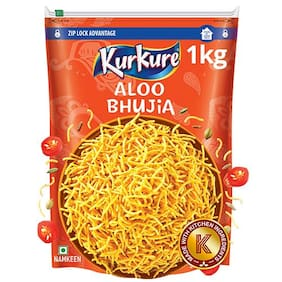kurkure: (87, 40, 191, 84)
plastic: (45, 26, 264, 279)
wrapper: (34, 2, 236, 273)
